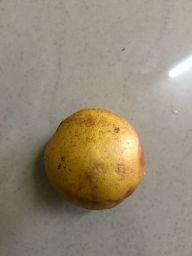lemon: (41, 107, 150, 212)
